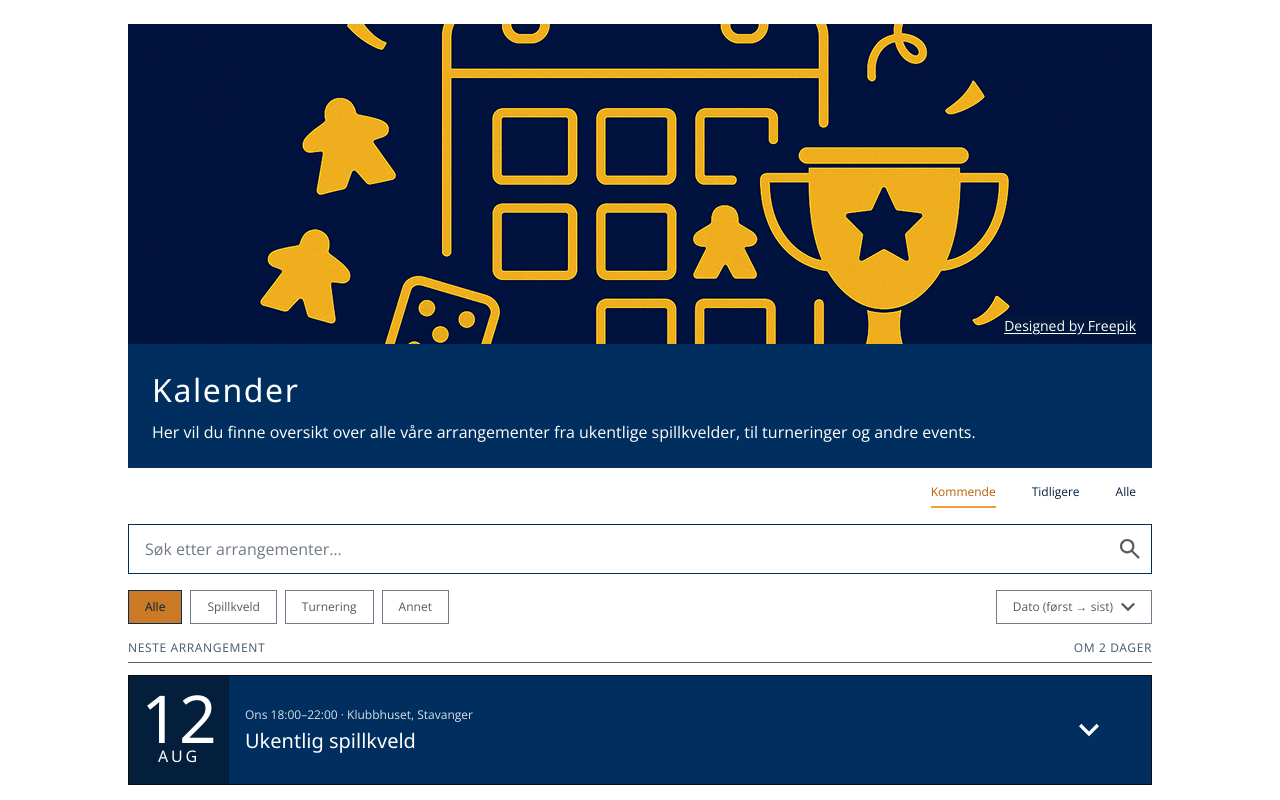
CalendarSection › shows only upcoming events until the scope is changed
The image size is (1280, 800).
Check: the heading "Sommerspillkveld" is not shown
Click the button "Tidligere". click: (1056, 492)
box: [1016, 476, 1096, 508]
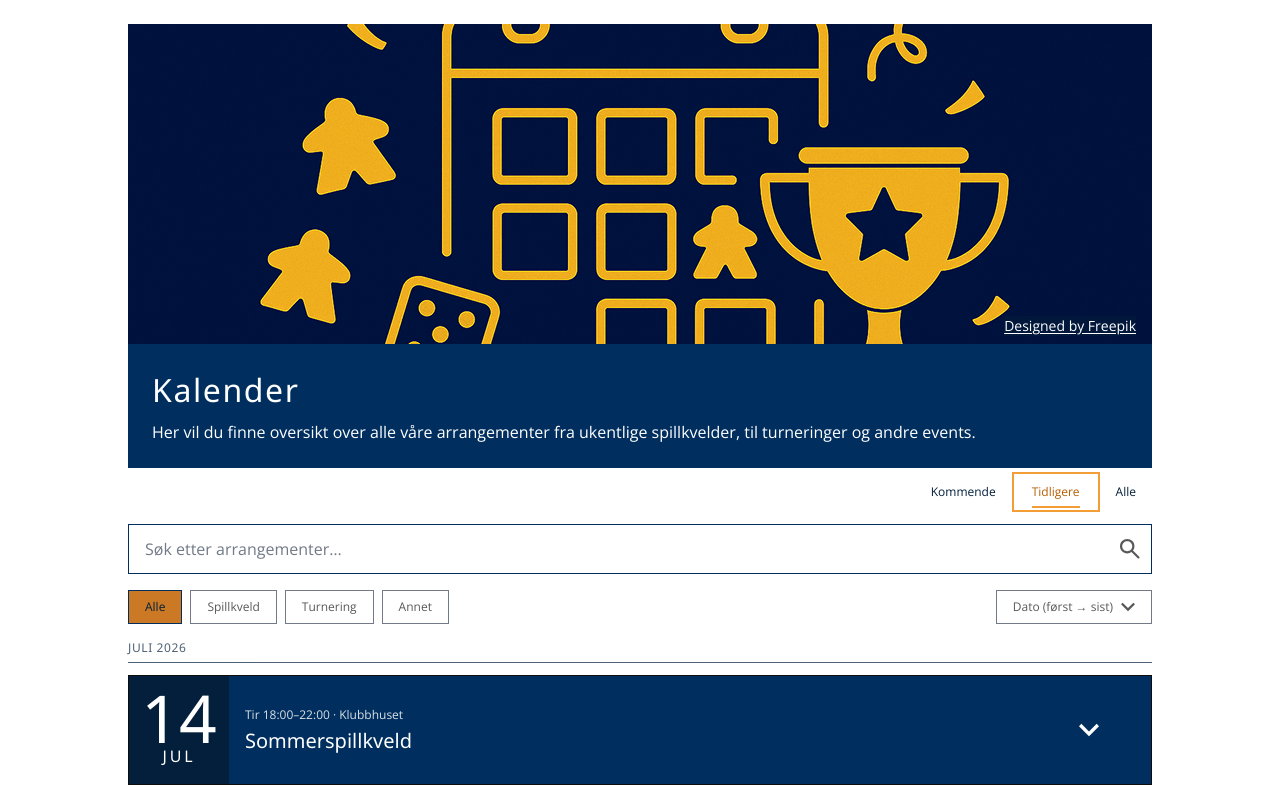
Check: the heading "Sommerspillkveld" is shown, box [245, 726, 412, 754]
Check: the text "Neste arrangement" is gone
